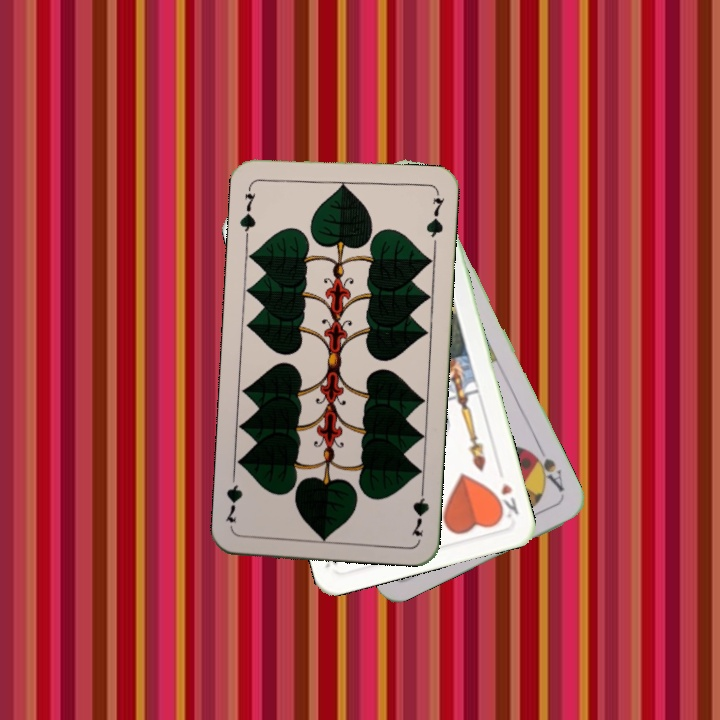G7: (407, 480, 432, 539), (236, 181, 259, 240)
HK: (490, 479, 521, 521)
SA: (526, 442, 568, 494)
